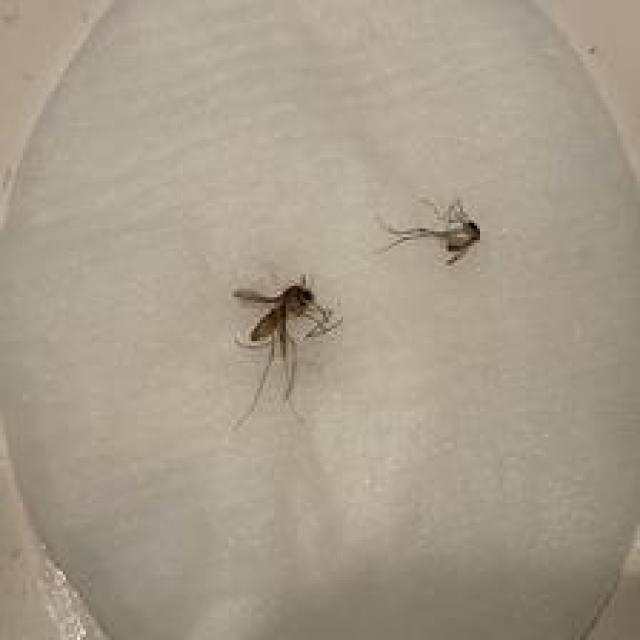Culex: (230, 273, 341, 430)
